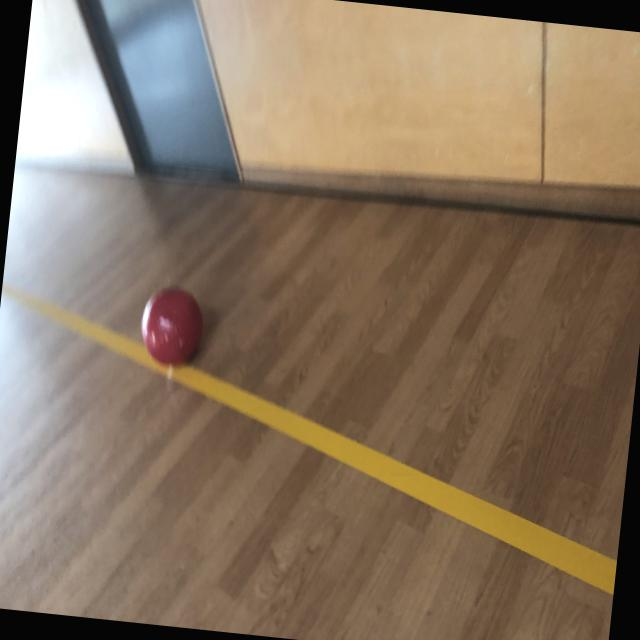red_ball: (136, 282, 206, 370)
